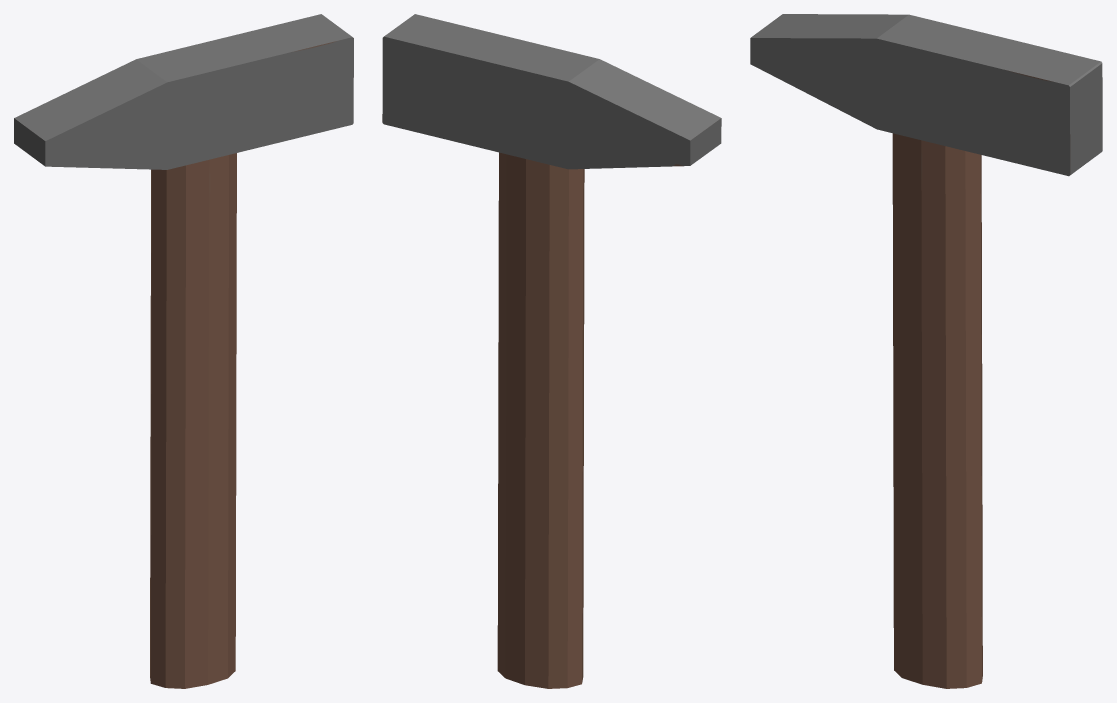
File: NEW martello.fbx
The picture shows the model from 3 angles, left to right: view 1: azimuth 30°, elevation 25°; view 2: azimuth 150°, elevation 25°; view 3: azimuth 330°, elevation 25°; orthographic projection. The views are drawn at different scales.
Visible parts, largest first — view 1: Object_1; view 2: Object_1; view 3: Object_1.
Part boxes in pixels (x1,y1,x2,y2): Object_1: (14, 14, 353, 688); Object_1: (382, 14, 721, 688); Object_1: (750, 14, 1102, 688).
Size of the model in its own units: 15.34 by 29.21 by 2.82.
